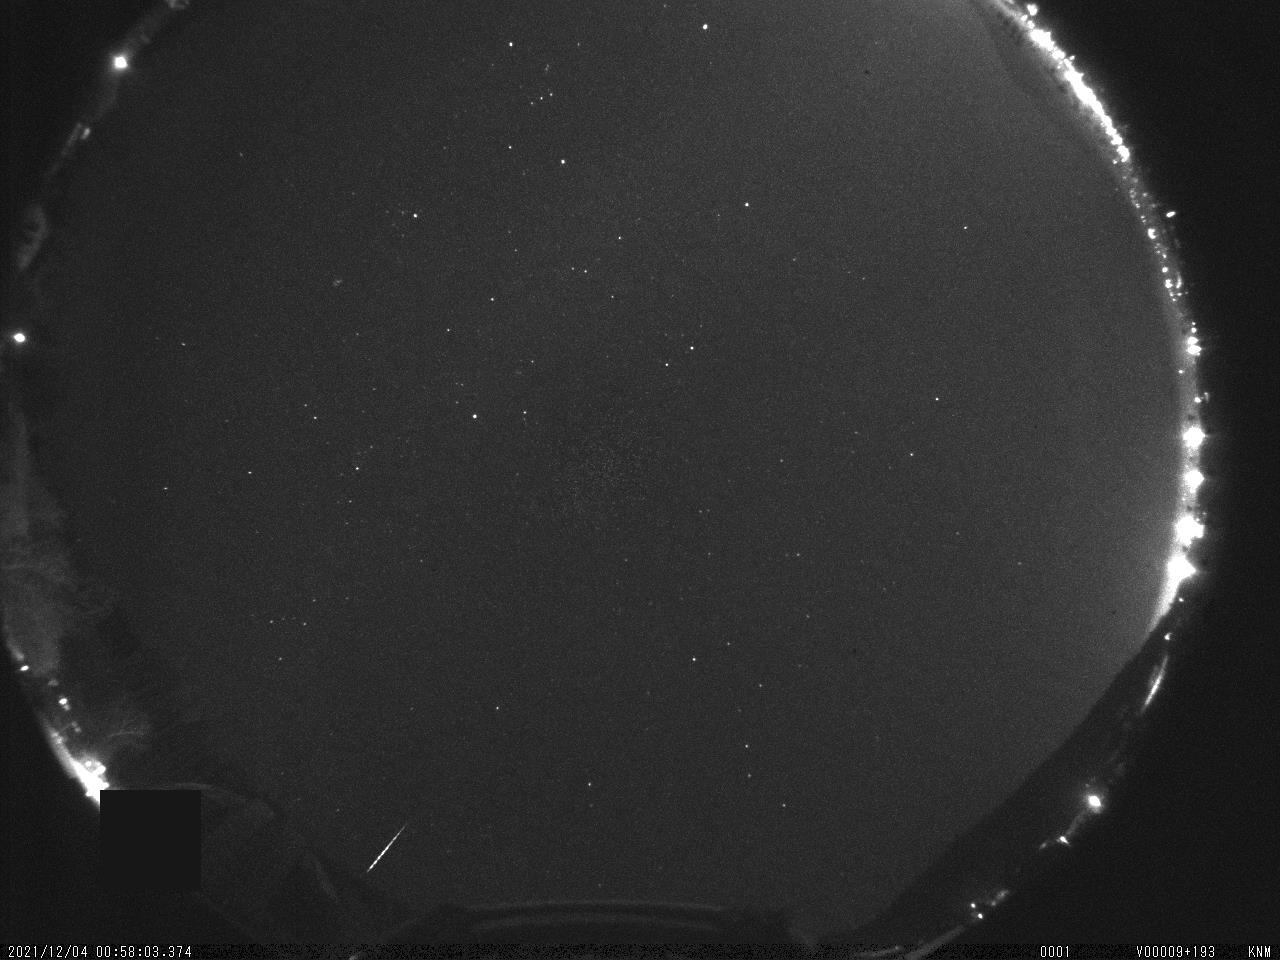meteor: (355, 808, 429, 881)
